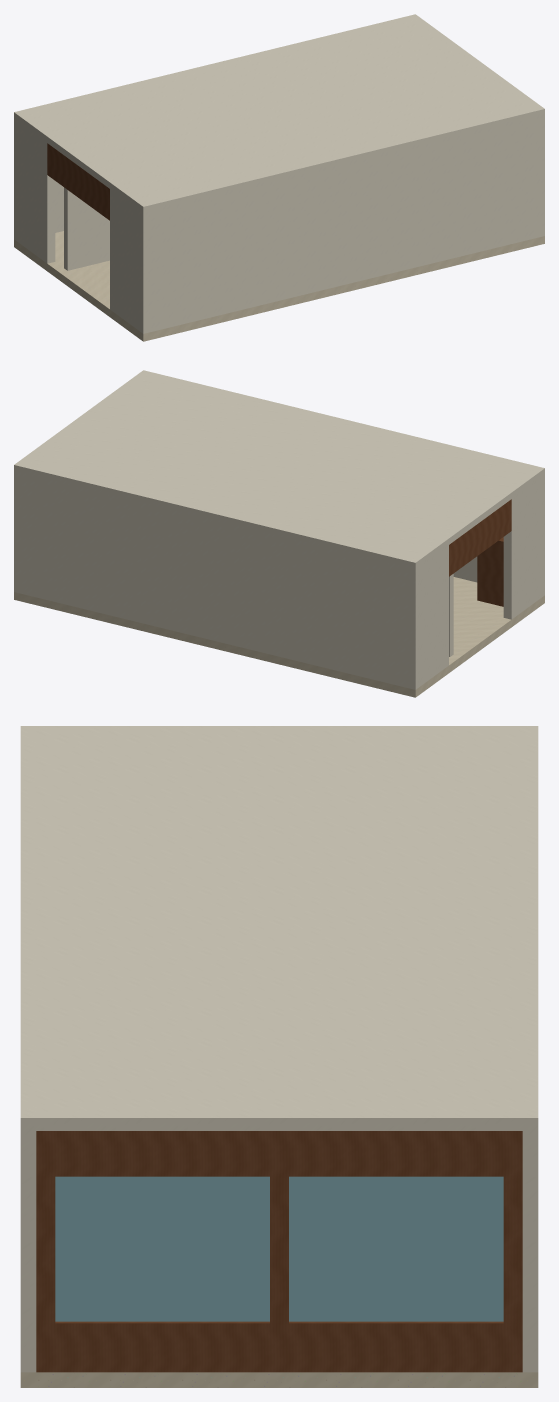
File: TidalSpecialty.glb
3 views of the same model, one above another, from view 1: azimuth 30°, elevation 25°; view 2: azimuth 150°, elevation 25°; view 3: azimuth 270°, elevation 25° (orthographic). The views are drawn at different scales.
Visible parts, largest first — view 1: TN484_Ceiling, TN484_SouthWall, TN484_Floor, TN484_FrontWall_0, TN484_FrontWall_1, TN484_WashSouth_1, TN484_EntryLintel, TN484_NorthWall; view 2: TN484_Ceiling, TN484_NorthWall, TN484_Floor, TN484_FrontWall_1, TN484_FrontWall_0, TN484_EntryLintel, TN484_ServiceSide_-296.32, TN484_SouthWall, TN484_ServiceBack, TN484_WashSouth_1; view 3: TN484_Ceiling, TN484_CourtGlass_0, TN484_CourtGlass_1, TN484_WestSill, TN484_WestHeader, TN484_Floor, TN484_NorthWall, TN484_SouthWall, TN484_WestPier_0, TN484_WestPier_2, TN484_WestPier_1.
Boxes of the visible parts, x1,y1,x2,y2 form: TN484_Ceiling: (14,14,544,213); TN484_SouthWall: (139,115,544,333); TN484_Floor: (14,231,544,341); TN484_FrontWall_0: (18,122,55,263); TN484_FrontWall_1: (110,189,139,330); TN484_WashSouth_1: (64,187,109,270); TN484_EntryLintel: (47,143,109,220); TN484_NorthWall: (14,119,63,241); TN484_Ceiling: (14,370,544,569); TN484_NorthWall: (14,471,419,689); TN484_Floor: (14,577,544,697); TN484_FrontWall_1: (503,478,540,619); TN484_FrontWall_0: (419,545,448,686); TN484_EntryLintel: (449,499,511,576); TN484_ServiceSide_-296.32: (477,543,495,602); TN484_SouthWall: (453,475,544,597); TN484_ServiceBack: (496,537,503,606); TN484_WashSouth_1: (449,574,453,656); TN484_Ceiling: (20,726,538,1130); TN484_CourtGlass_0: (289,1176,503,1321); TN484_CourtGlass_1: (55,1176,269,1321); TN484_WestSill: (36,1321,522,1372); TN484_WestHeader: (36,1131,522,1176); TN484_Floor: (20,1372,538,1387); TN484_NorthWall: (522,1131,538,1372); TN484_SouthWall: (20,1131,36,1372); TN484_WestPier_0: (503,1176,522,1323); TN484_WestPier_2: (36,1176,55,1323); TN484_WestPier_1: (270,1176,288,1323).
Bounding box in the file's own units: 12.9 × 4.14 × 7.2.
7 materials, 5 textured.
